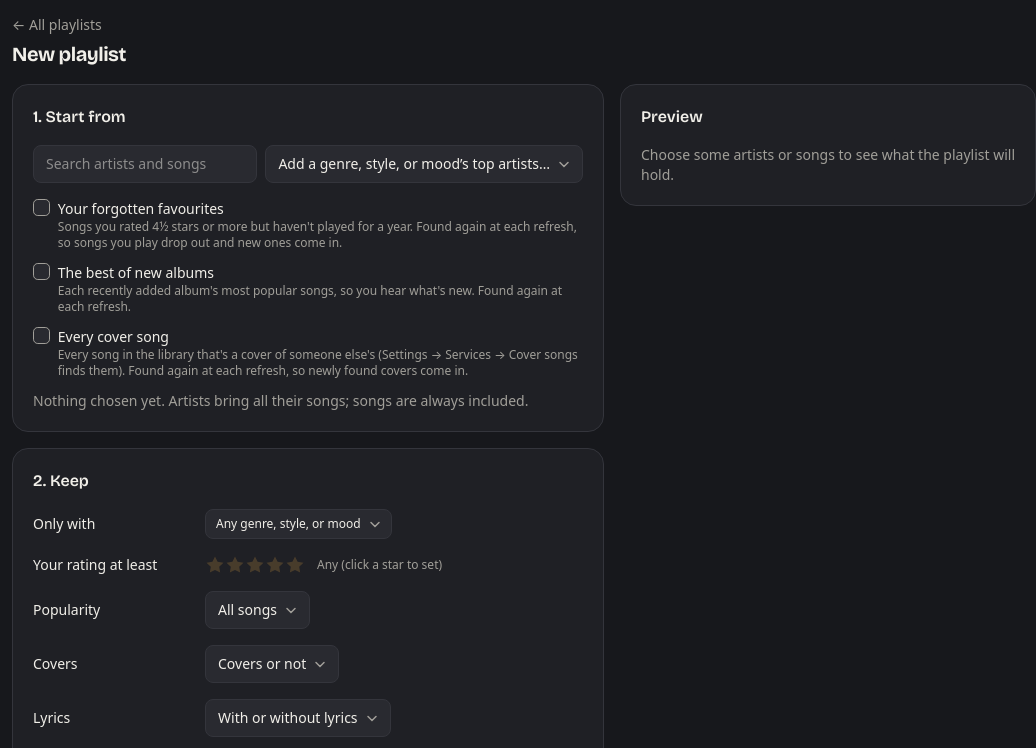
Test case: Playlists › makes Fresh picks: the best of new albums, refreshed weekly
Later steps or results of the test are not shown.
Click the checkbox labelled "The best of new albums".
click(41, 271)  # box [33,263,50,280]
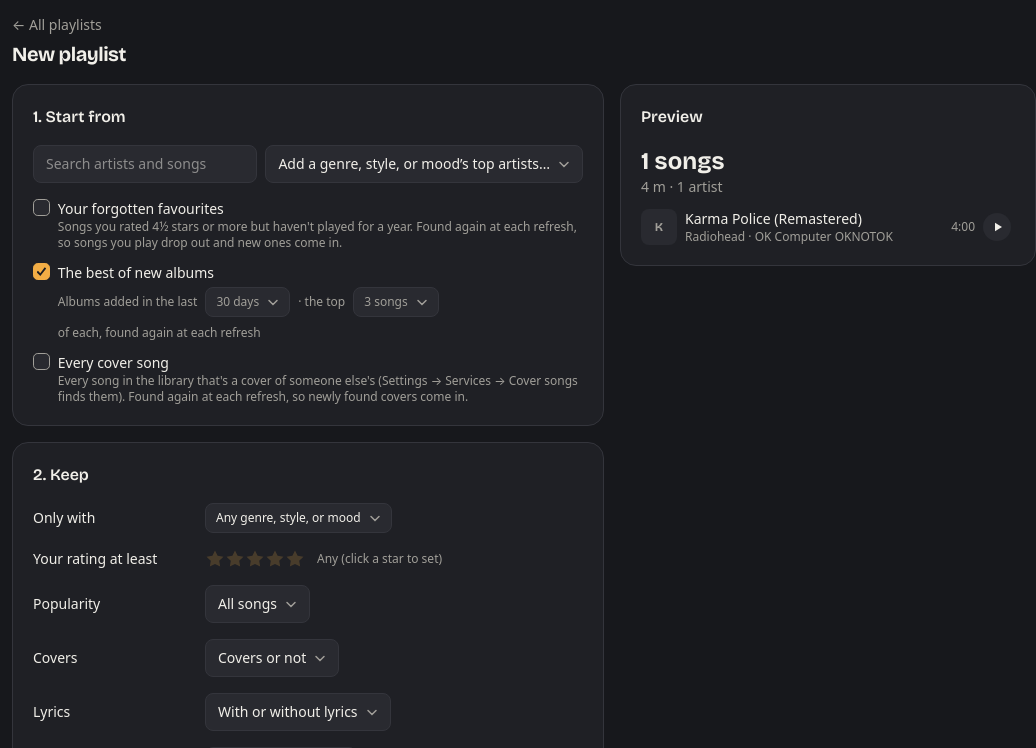
Expected: the text "Karma Police (Remastered)" is shown, [685,209,862,228]
